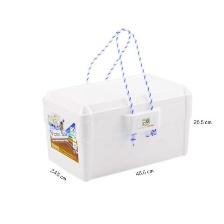foam_box: (36, 20, 196, 185)
